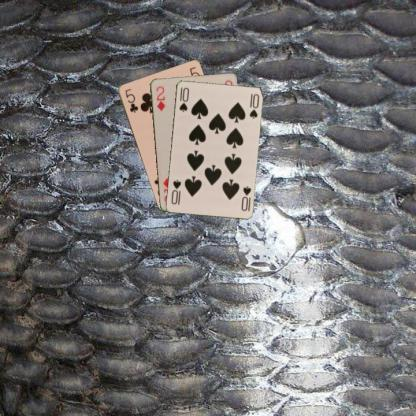10s: (177, 84, 190, 113), (239, 183, 252, 212)
2d: (153, 84, 167, 112)
5c: (122, 86, 140, 114)
